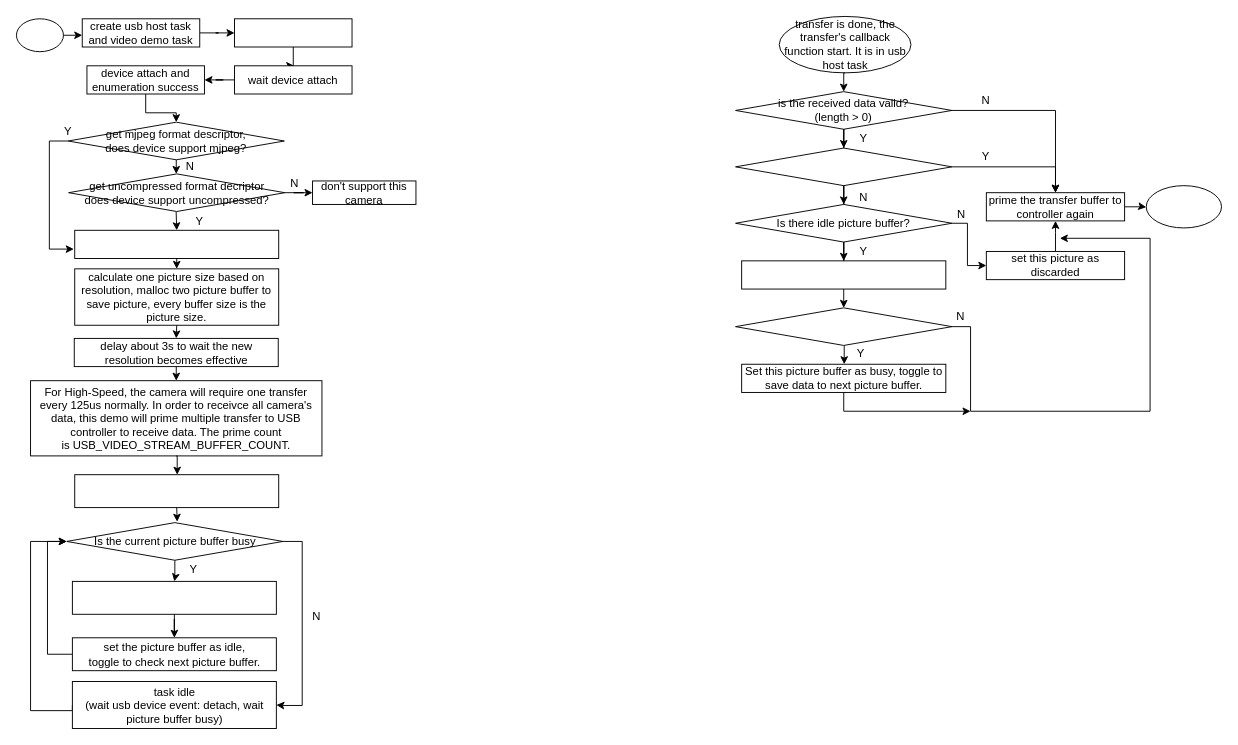
This 1238x745 diagram has some shape labels left out. The shapes that lost their labels are listed below. From the top down, each one's centre as x and y in pixels, then its label:
At point 39,35: "start".
At point 293,32: "video demo task runs".
At point 843,166: "is the picture discarded?".
At point 1183,206: "callback function return".
At point 176,243: "use minimum resolution and frame rate".
At point 843,274: "copy the data to idle picture buffer".
At point 843,326: "Is the data last of one picture".
At point 176,491: "writing sdcard in this task".
At point 173,597: "create file and write picture to sdcard".
